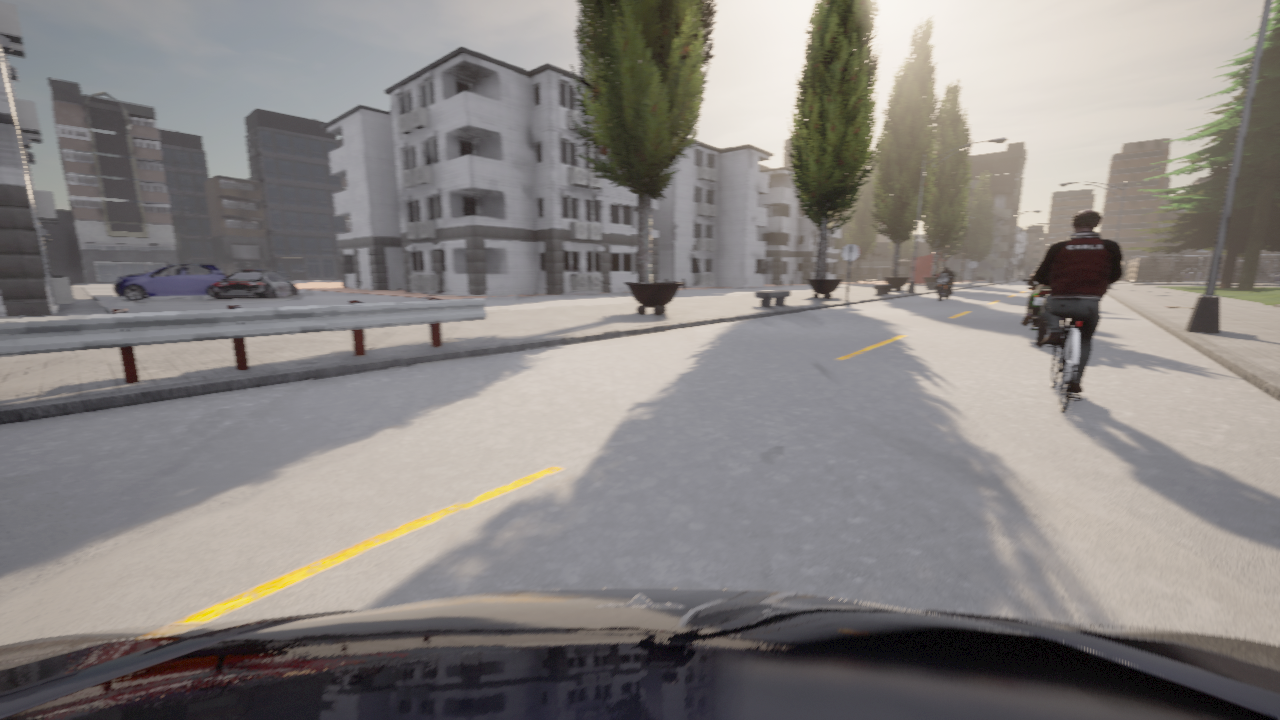cyclist: (0, 588, 1279, 719), (114, 264, 231, 300), (1046, 318, 1084, 412), (211, 269, 299, 299), (1022, 279, 1049, 346), (933, 273, 954, 300), (1180, 268, 1201, 281), (1217, 272, 1240, 281), (213, 282, 263, 285), (1268, 272, 1279, 281), (1233, 274, 1239, 281)
